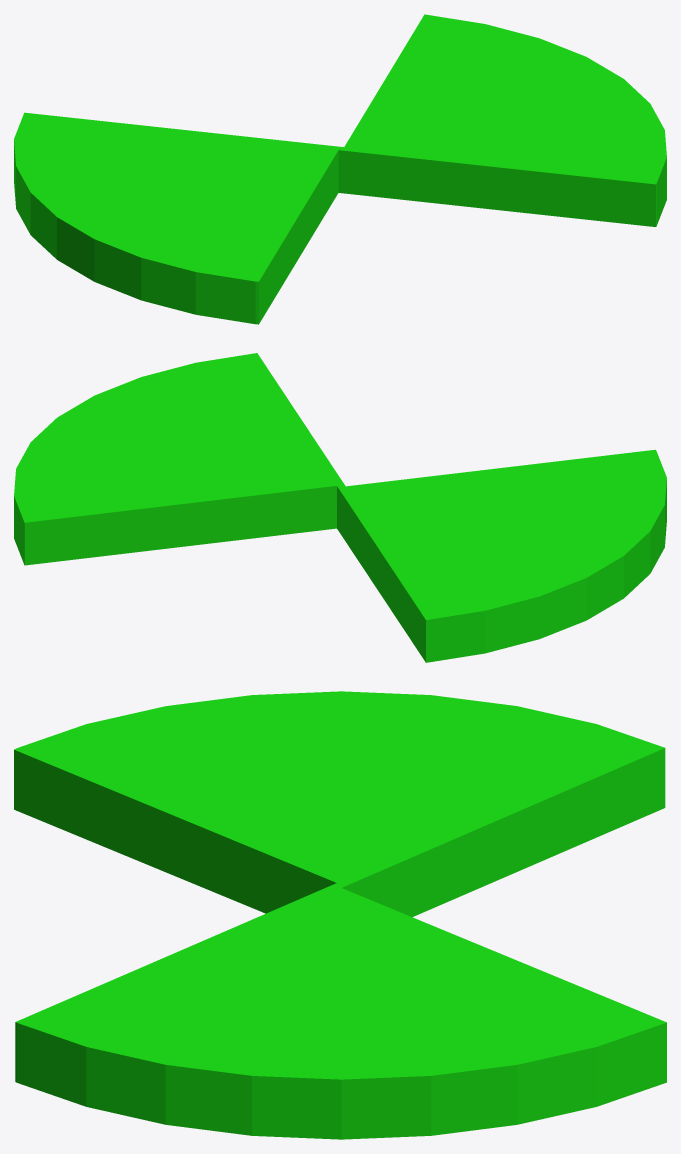
The model's file is CylinderTwoSlice.glb.
3 renders of one model, top to bottom at view 1: azimuth 30°, elevation 25°; view 2: azimuth 150°, elevation 25°; view 3: azimuth 270°, elevation 25°, orthographic. The views are drawn at different scales.
Parts seen in each view (by area): view 1: Cylinder; view 2: Cylinder; view 3: Cylinder.
Part boxes in pixels (<box>): Cylinder: <box>14,14,666,324</box>; Cylinder: <box>14,353,666,662</box>; Cylinder: <box>14,691,666,1139</box>.
Size of the model in its own units: 2 by 0.1441 by 1.42.
